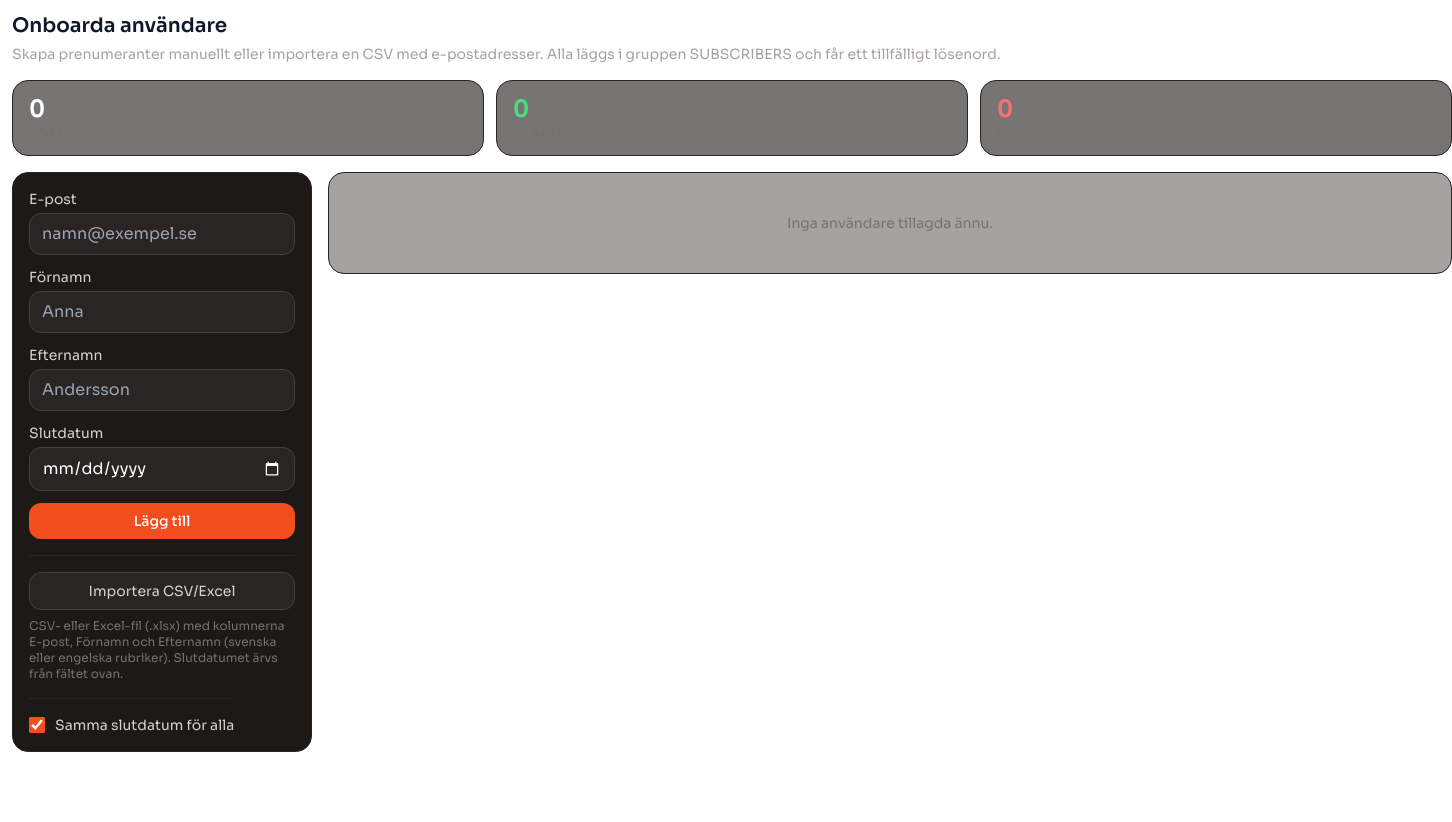
UserOnboard › does not add a row when the name fields are empty
The image size is (1452, 822).
Step 1. Type "anna@x.se" into the field with placeholder "namn@exempel.se" → (162, 234), box [29,213,295,255]
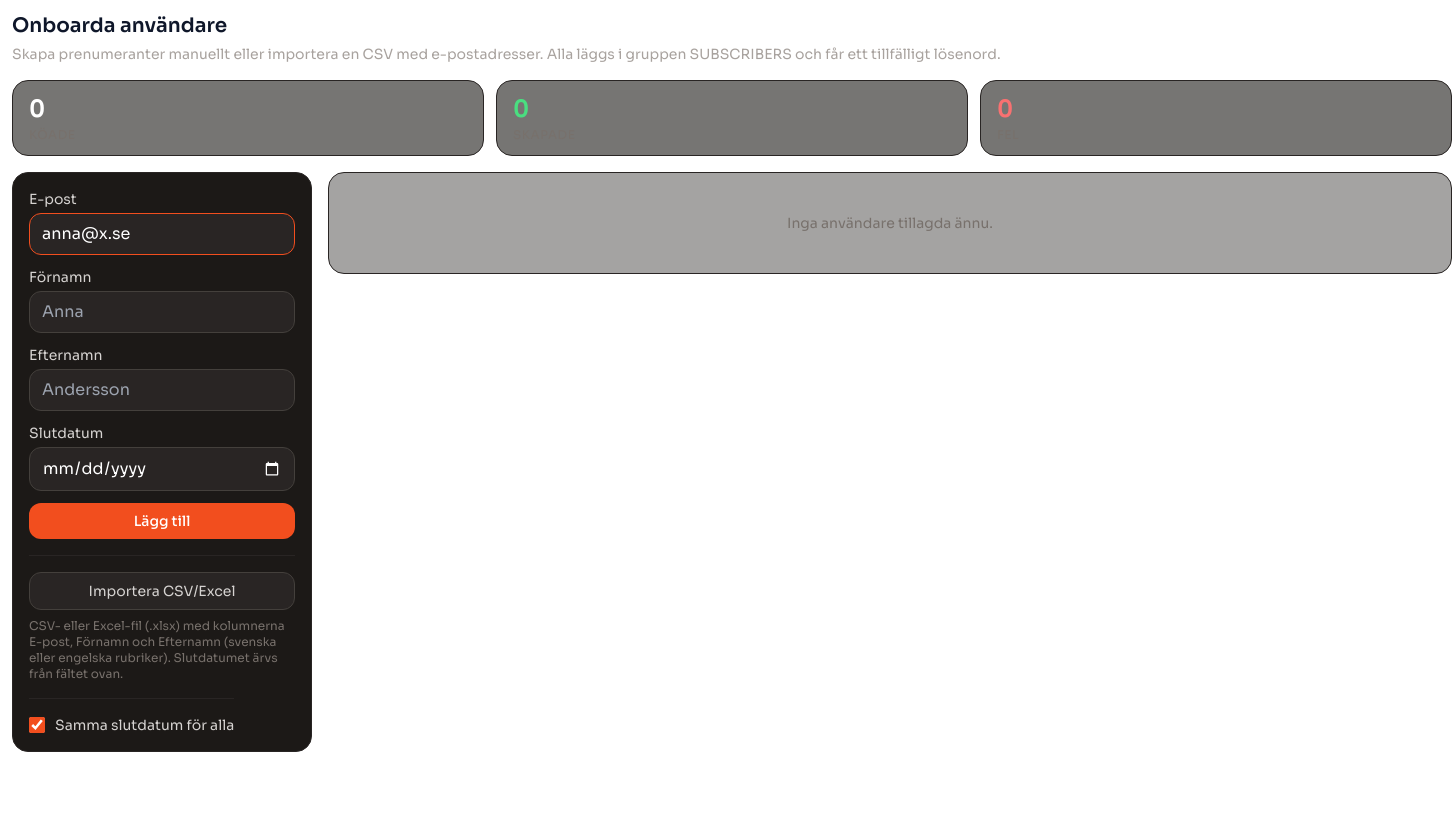
Step 2. Click the button "Lägg till" → (162, 521), box [29,503,295,539]
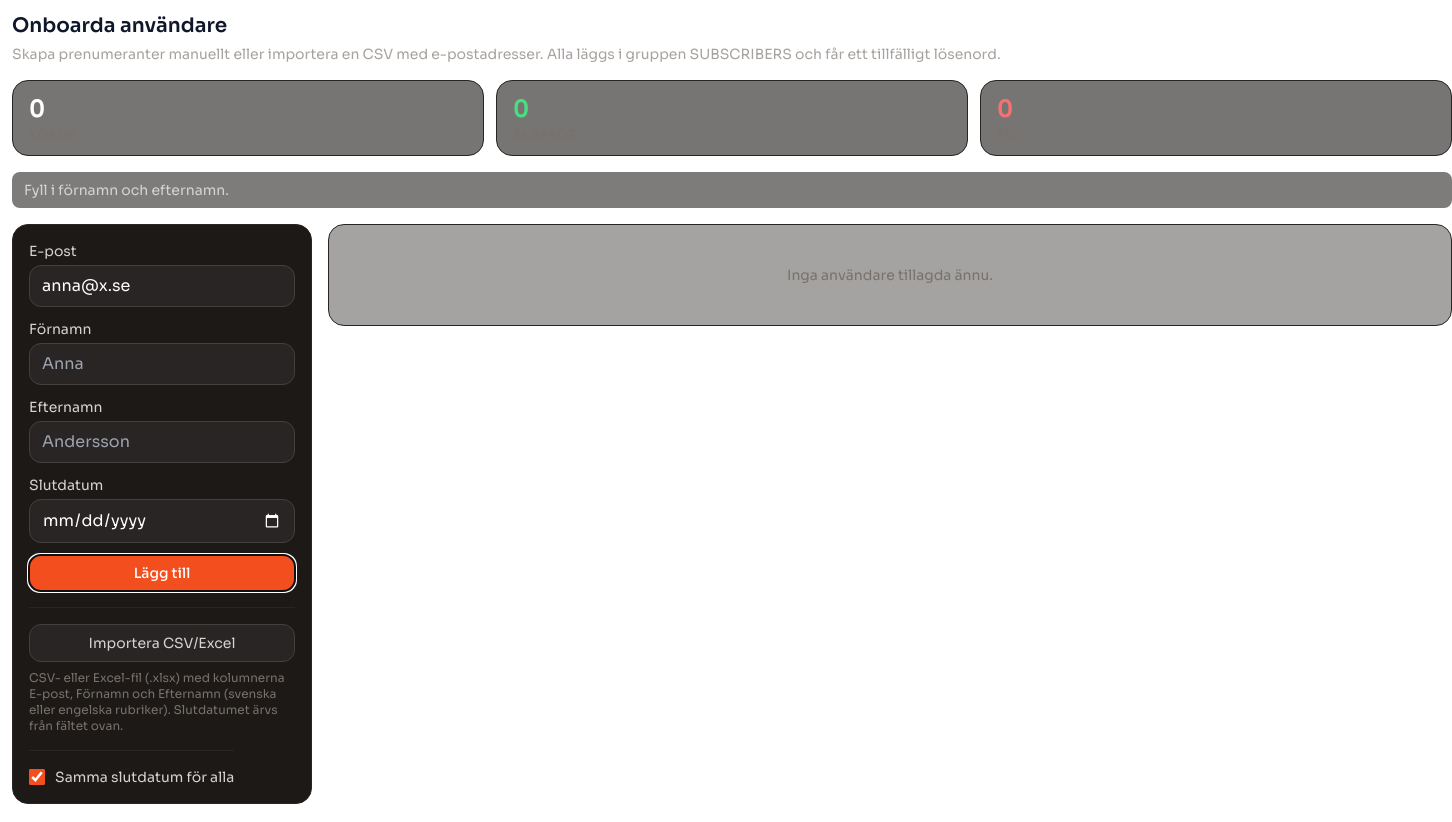
Expected: the text "Inga användare tillagda ännu." is shown, [787,266,993,284]
Result: the text "Fyll i förnamn och efternamn." is shown at [12,172,1451,208]
